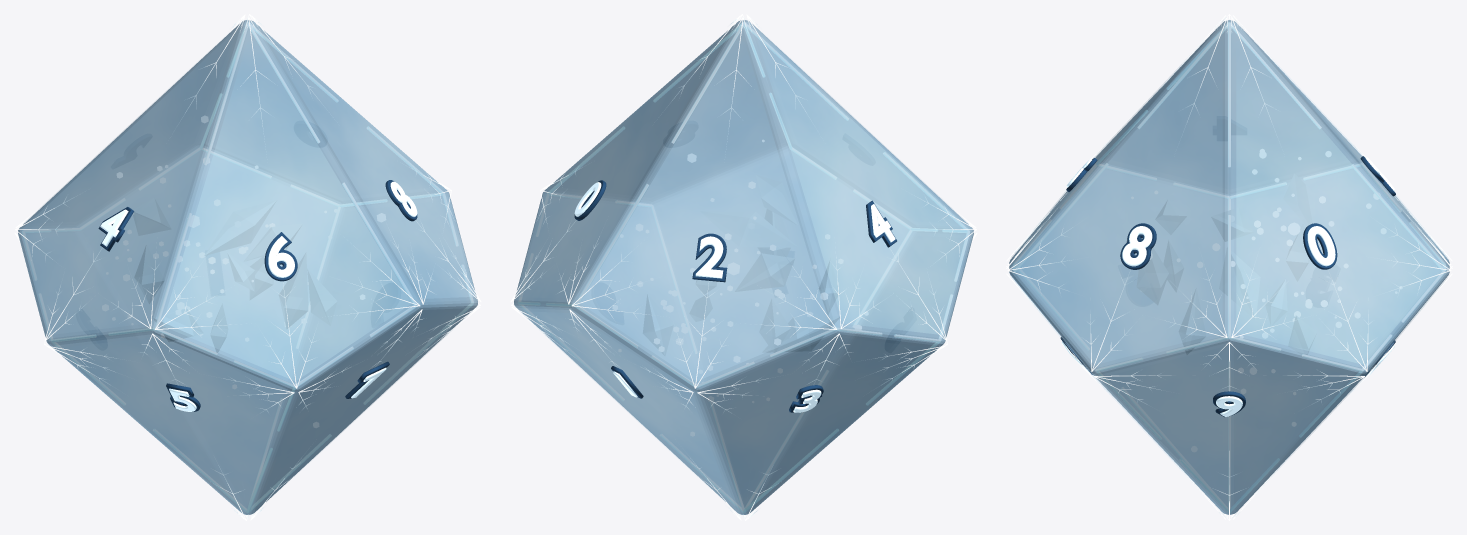
File: D10_个位骰_0-9_月白冰晶_baked.glb
3 renders of one model, left to right at view 1: azimuth 30°, elevation 25°; view 2: azimuth 150°, elevation 25°; view 3: azimuth 270°, elevation 25°, orthographic.
Visible parts, largest first — view 1: D10_0_9_Body_10_Faces, D10_0_9_Continuous_Frost_Gradient_v3, D10_0_9_Floating_Ice_Shards, D10_0_9_Moonwhite_Broken_Ice_Seam, D10_0_9_Every_Face_Vertex_Frost_v6, D10_0_9_Floating_Frost_Motes, D10_0_9_Face_07_6, D10_0_9_Face_07_6_Dark_Ice_Back_v7; view 2: D10_0_9_Body_10_Faces, D10_0_9_Continuous_Frost_Gradient_v3, D10_0_9_Floating_Ice_Shards, D10_0_9_Moonwhite_Broken_Ice_Seam, D10_0_9_Every_Face_Vertex_Frost_v6, D10_0_9_Floating_Frost_Motes, D10_0_9_Face_03_2_Dark_Ice_Back_v7, D10_0_9_Face_03_2; view 3: D10_0_9_Body_10_Faces, D10_0_9_Continuous_Frost_Gradient_v3, D10_0_9_Floating_Ice_Shards, D10_0_9_Moonwhite_Broken_Ice_Seam, D10_0_9_Every_Face_Vertex_Frost_v6, D10_0_9_Floating_Frost_Motes, D10_0_9_Face_09_8, D10_0_9_Face_01_0, D10_0_9_Face_01_0_Dark_Ice_Back_v7, D10_0_9_Face_09_8_Dark_Ice_Back_v7.
Part boxes in pixels (x1=…): D10_0_9_Body_10_Faces: x1=18, y1=20, x2=477, y2=514; D10_0_9_Continuous_Frost_Gradient_v3: x1=22, y1=76, x2=474, y2=474; D10_0_9_Floating_Ice_Shards: x1=133, y1=198, x2=336, y2=352; D10_0_9_Moonwhite_Broken_Ice_Seam: x1=22, y1=22, x2=473, y2=512; D10_0_9_Every_Face_Vertex_Frost_v6: x1=14, y1=14, x2=481, y2=520; D10_0_9_Floating_Frost_Motes: x1=102, y1=116, x2=385, y2=427; D10_0_9_Face_07_6: x1=268, y1=236, x2=294, y2=277; D10_0_9_Face_07_6_Dark_Ice_Back_v7: x1=264, y1=232, x2=297, y2=281; D10_0_9_Body_10_Faces: x1=514, y1=20, x2=973, y2=514; D10_0_9_Continuous_Frost_Gradient_v3: x1=517, y1=69, x2=969, y2=472; D10_0_9_Floating_Ice_Shards: x1=643, y1=175, x2=839, y2=355; D10_0_9_Moonwhite_Broken_Ice_Seam: x1=518, y1=22, x2=969, y2=512; D10_0_9_Every_Face_Vertex_Frost_v6: x1=510, y1=14, x2=977, y2=520; D10_0_9_Floating_Frost_Motes: x1=613, y1=140, x2=884, y2=435; D10_0_9_Face_03_2_Dark_Ice_Back_v7: x1=692, y1=233, x2=727, y2=282; D10_0_9_Face_03_2: x1=695, y1=236, x2=723, y2=278; D10_0_9_Body_10_Faces: x1=1009, y1=20, x2=1449, y2=514; D10_0_9_Continuous_Frost_Gradient_v3: x1=1011, y1=74, x2=1447, y2=471; D10_0_9_Floating_Ice_Shards: x1=1137, y1=174, x2=1316, y2=354; D10_0_9_Moonwhite_Broken_Ice_Seam: x1=1013, y1=22, x2=1445, y2=512; D10_0_9_Every_Face_Vertex_Frost_v6: x1=1006, y1=14, x2=1452, y2=520; D10_0_9_Floating_Frost_Motes: x1=1131, y1=149, x2=1401, y2=451; D10_0_9_Face_09_8: x1=1122, y1=226, x2=1152, y2=266; D10_0_9_Face_01_0: x1=1307, y1=226, x2=1335, y2=266; D10_0_9_Face_01_0_Dark_Ice_Back_v7: x1=1303, y1=223, x2=1337, y2=269; D10_0_9_Face_09_8_Dark_Ice_Back_v7: x1=1120, y1=223, x2=1156, y2=269.
Bounding box in the file's own units: 3.62 × 4.28 × 3.44.
Materials: 11 (2 with a texture image).
